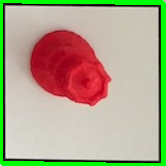Red Queen: (24, 26, 114, 109)
